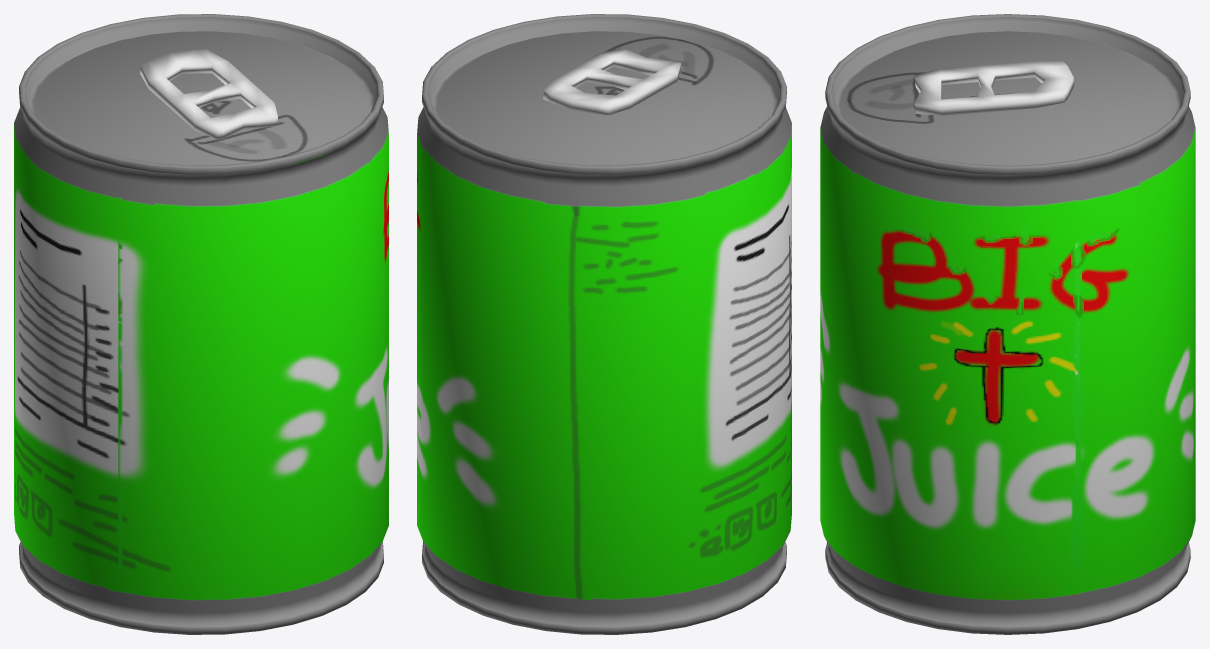
The model's file is can.glb.
The picture shows the model from 3 angles, left to right: view 1: azimuth 30°, elevation 25°; view 2: azimuth 150°, elevation 25°; view 3: azimuth 270°, elevation 25°; orthographic projection.
Visible parts, largest first — view 1: Cylinder, Cube; view 2: Cylinder, Cube; view 3: Cylinder, Cube.
Part boxes in pixels (x1,y1,x2,y2): Cylinder: (14, 14, 388, 634); Cube: (140, 49, 277, 139); Cylinder: (417, 14, 791, 634); Cube: (543, 48, 680, 114); Cylinder: (820, 14, 1195, 634); Cube: (914, 61, 1074, 115).
Bounding box in the file's own units: 1.73 × 2.44 × 1.73.
Materials: 2 (2 with a texture image).
